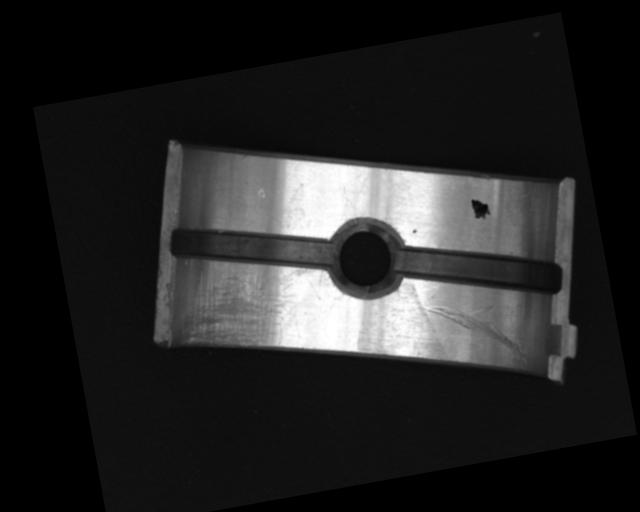blot: (470, 195, 492, 221)
bruise: (256, 187, 267, 201), (412, 228, 417, 233)
gap: (389, 219, 565, 319), (165, 201, 337, 294)
hole: (323, 214, 408, 304)
nick: (417, 285, 532, 383)
scratch: (166, 256, 326, 361)
